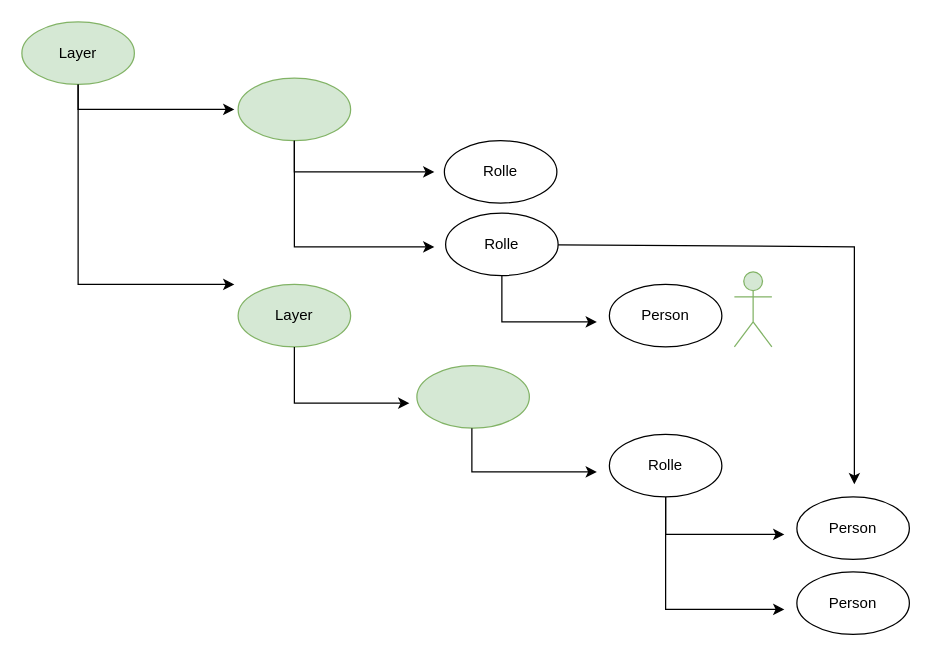
Some shapes in this 931 by 656 pixel diagram are drawn without their labels. The centre of each missing label's shape, as x and y in pixels:
Group: point 472,396
Rudolf: point 752,309
Rudolf-Gruppe: point 294,109
